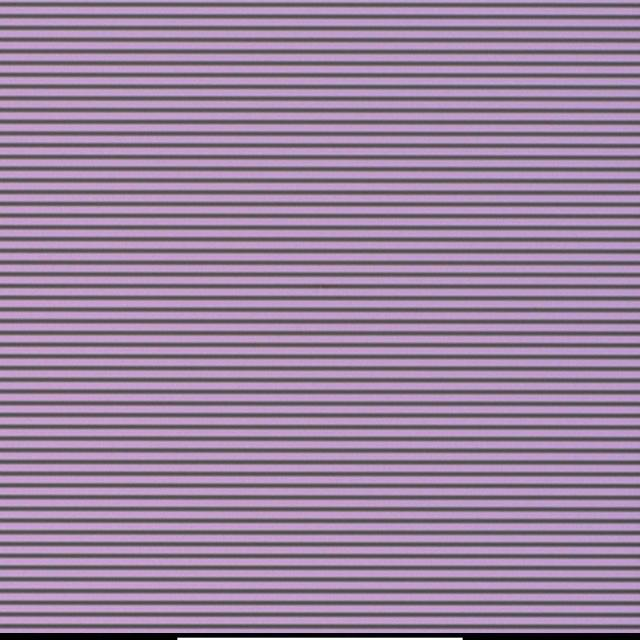03_intrusion: (318, 279, 326, 290)
